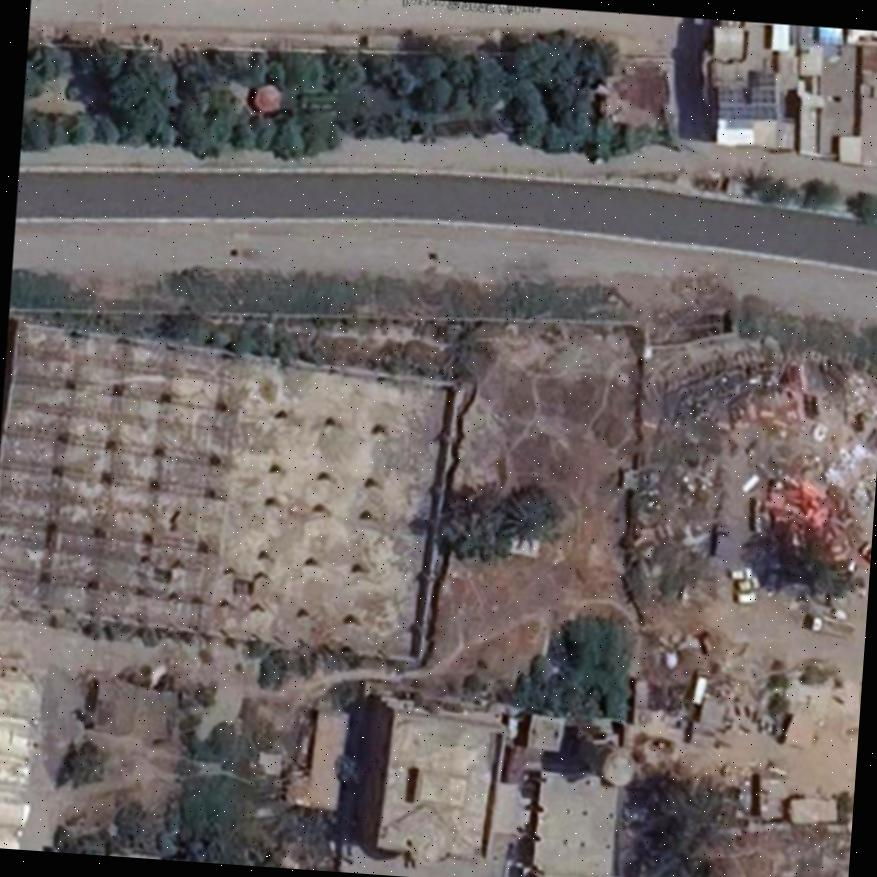Solarpanel: (717, 88, 776, 118)
